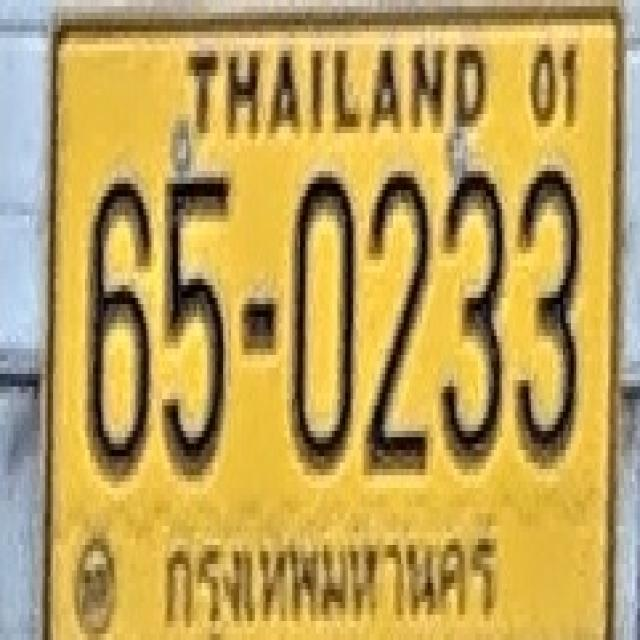0: (291, 171, 354, 469)
2: (365, 168, 429, 466)
3: (441, 165, 504, 469), (517, 165, 580, 462)
5: (162, 171, 231, 475)
6: (88, 178, 151, 476)
BKK: (160, 519, 511, 640)
